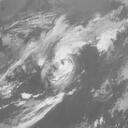cyclone: (38, 30, 82, 87)
